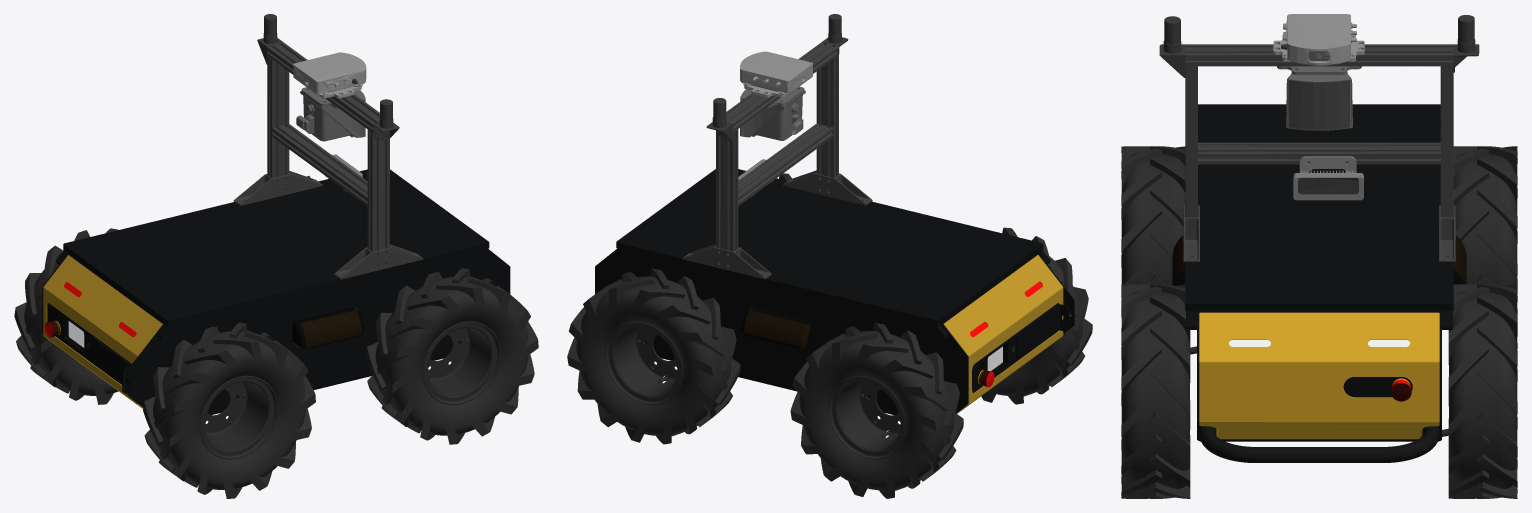
3 renders of one model, left to right at view 1: azimuth 30°, elevation 25°; view 2: azimuth 150°, elevation 25°; view 3: azimuth 270°, elevation 25°, orthographic. The views are drawn at different scales.
Visible parts, largest first — view 1: Shape_IndexedFaceSet.017, outdoor_left, Husky A300 x LiCamFix v10, Shape_IndexedFaceSet.024_primitive0, Husky A300 x LiCamFix v11.002_primitive1, Husky A300 x LiCamFix v11.001_primitive0, Shape_IndexedFaceSet.024_primitive1, Husky A300 x LiCamFix v11.002_primitive0; view 2: Shape_IndexedFaceSet.017, outdoor_left, Husky A300 x LiCamFix v10, Shape_IndexedFaceSet.024_primitive0, Husky A300 x LiCamFix v11.002_primitive1, Shape_IndexedFaceSet.024_primitive1, Husky A300 x LiCamFix v11.001_primitive0, Husky A300 x LiCamFix v11.002_primitive0; view 3: Shape_IndexedFaceSet.017, outdoor_left, Shape_IndexedFaceSet.024_primitive0, Husky A300 x LiCamFix v10, Husky A300 x LiCamFix v11.001_primitive0, Husky A300 x LiCamFix v11.002_primitive1, Husky A300 x LiCamFix v11.001_primitive1, Husky A300 x LiCamFix v11_primitive0, Husky A300 x LiCamFix v11.002_primitive0, Shape_IndexedFaceSet.024_primitive1, Husky A300 x LiCamFix v11_primitive1, Shape_IndexedFaceSet.036.
Part boxes in pixels (x1,y1,x2,y2): Shape_IndexedFaceSet.017: (42,169,510,414); outdoor_left: (14,176,538,498); Husky A300 x LiCamFix v10: (233,43,423,279); Shape_IndexedFaceSet.024_primitive0: (43,255,356,408); Husky A300 x LiCamFix v11.002_primitive1: (293,52,366,98); Husky A300 x LiCamFix v11.001_primitive0: (296,87,365,141); Shape_IndexedFaceSet.024_primitive1: (292,306,364,349); Husky A300 x LiCamFix v11.002_primitive0: (257,14,399,139); Shape_IndexedFaceSet.017: (595,169,1074,415); outdoor_left: (567,173,1092,498); Husky A300 x LiCamFix v10: (682,42,872,279); Shape_IndexedFaceSet.024_primitive0: (943,255,1063,413); Husky A300 x LiCamFix v11.002_primitive1: (740,51,812,97); Shape_IndexedFaceSet.024_primitive1: (741,306,813,349); Husky A300 x LiCamFix v11.001_primitive0: (740,86,805,140); Husky A300 x LiCamFix v11.002_primitive0: (706,14,848,141); Shape_IndexedFaceSet.017: (1185,104,1453,462); outdoor_left: (1121,146,1517,498); Shape_IndexedFaceSet.024_primitive0: (1199,312,1439,439); Husky A300 x LiCamFix v10: (1183,44,1455,262); Husky A300 x LiCamFix v11.001_primitive0: (1277,66,1361,130); Husky A300 x LiCamFix v11.002_primitive1: (1273,14,1364,65); Husky A300 x LiCamFix v11.001_primitive1: (1289,80,1349,130); Husky A300 x LiCamFix v11_primitive0: (1293,156,1363,200); Husky A300 x LiCamFix v11.002_primitive0: (1159,15,1479,77); Shape_IndexedFaceSet.024_primitive1: (1172,235,1466,285); Husky A300 x LiCamFix v11_primitive1: (1298,178,1358,194); Shape_IndexedFaceSet.036: (1228,340,1410,346).
Bounding box in the file's own units: 0.9462 × 0.7496 × 0.62.
